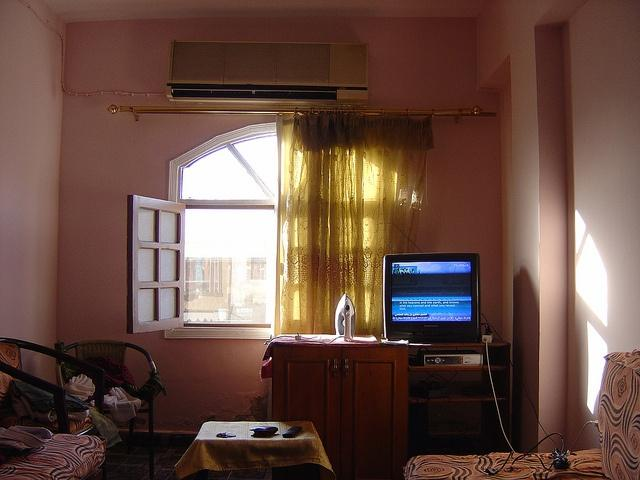AC: (165, 40, 369, 103)
AIO PC-Monitor-TV: (383, 252, 478, 341)
Lemari: (270, 342, 407, 479)
